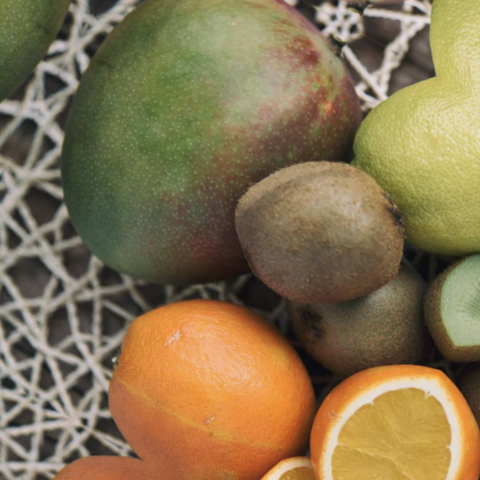kiwi: (0, 0, 401, 370), (203, 123, 433, 340)
orange: (68, 254, 347, 480)
